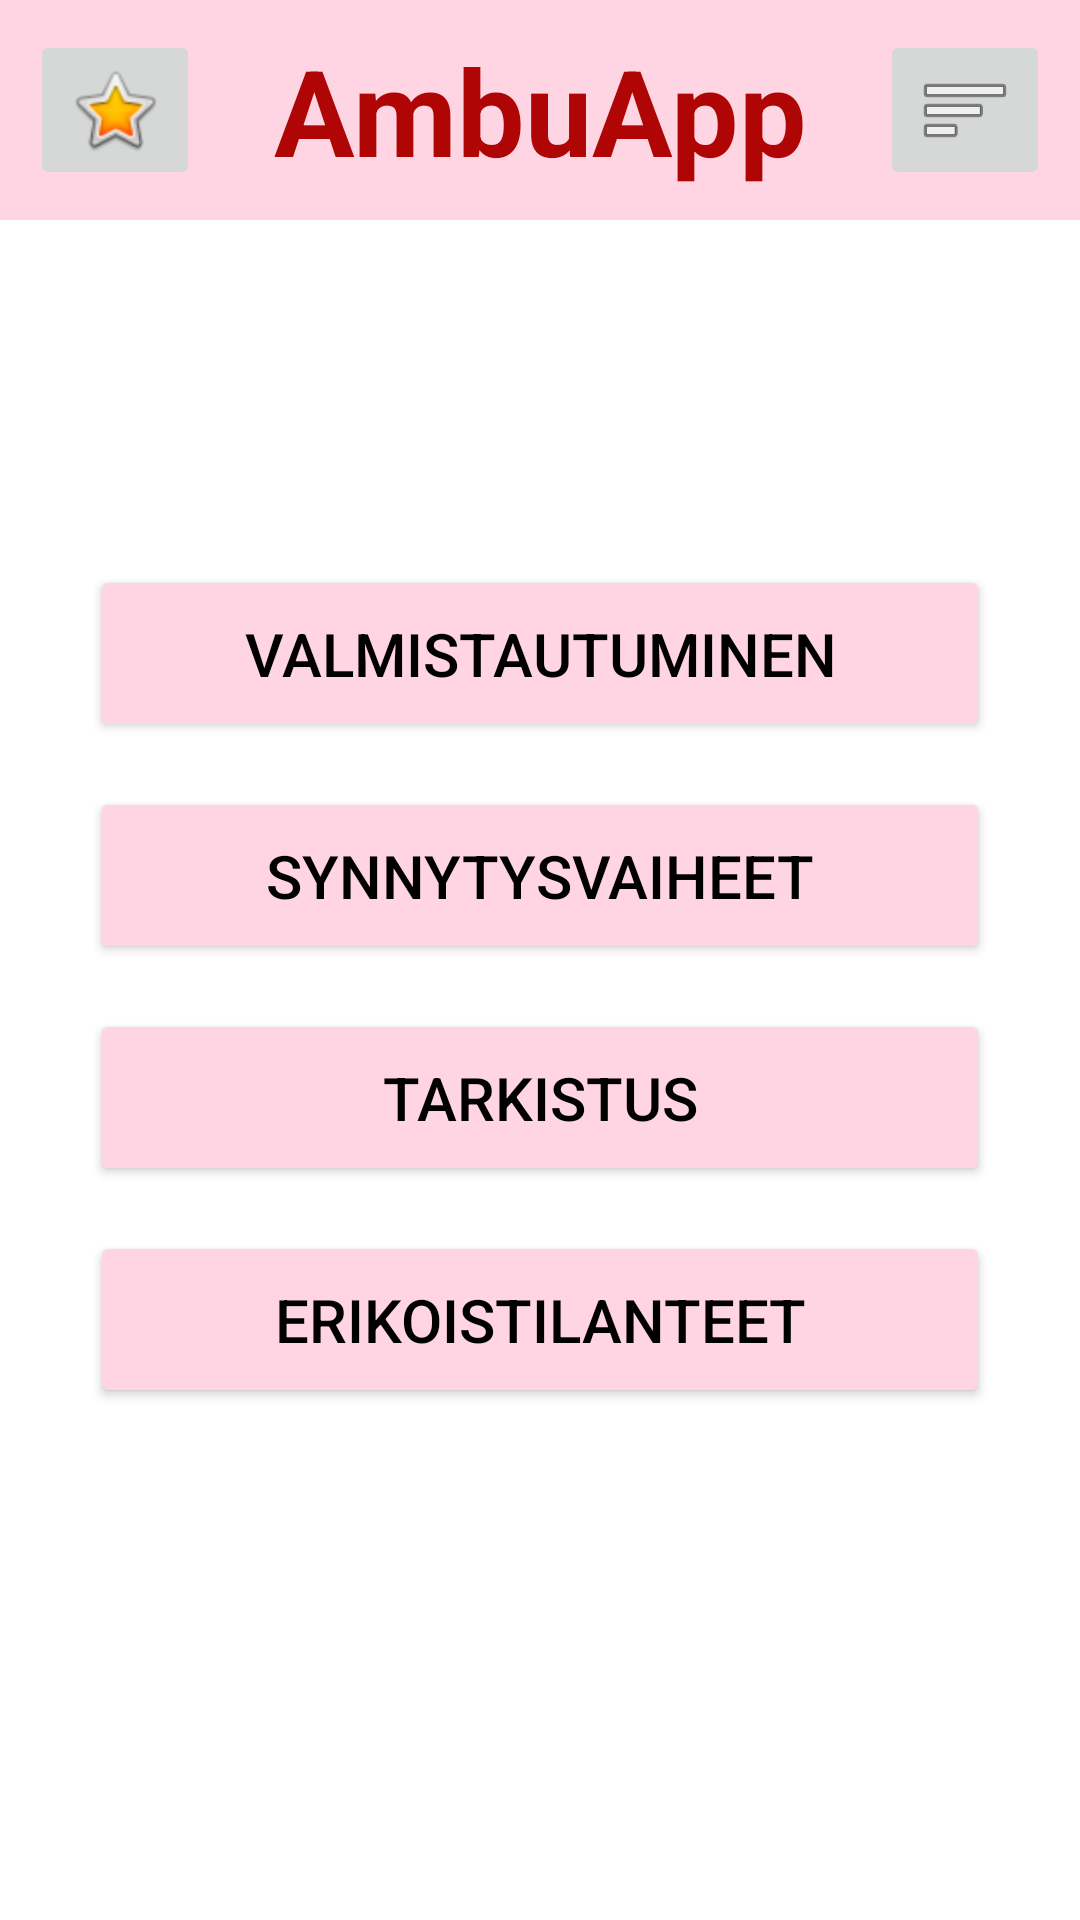

Point at icon controls on the screen. Image size 1080 x 1920, points as [x,y].
sort by size: [965,110]
star on: [115,110]
